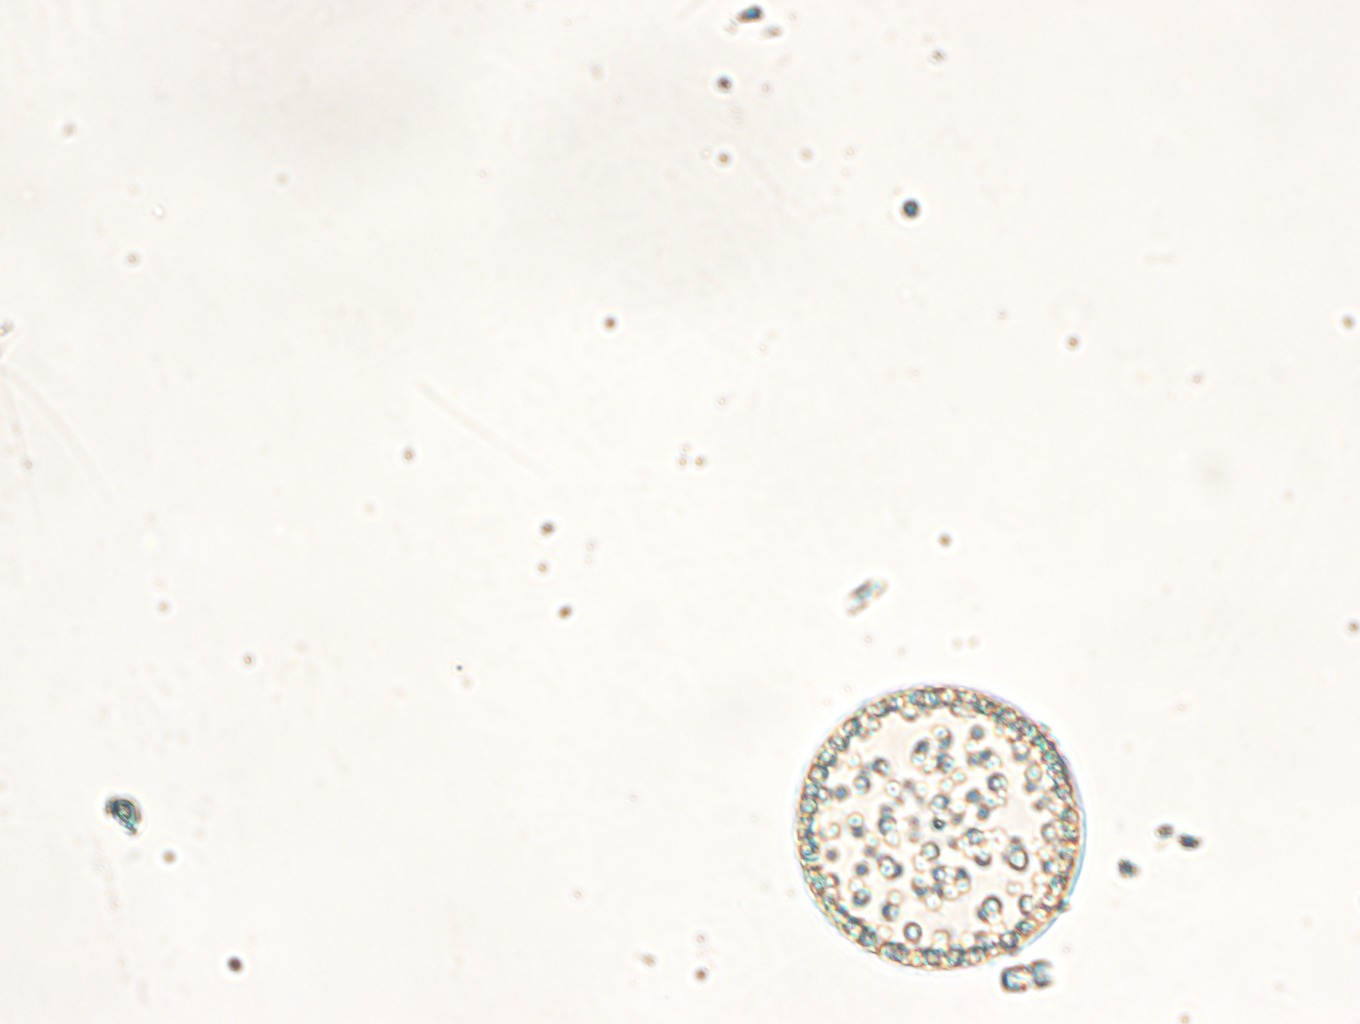coscinodiscus: (792, 682, 1091, 972)
